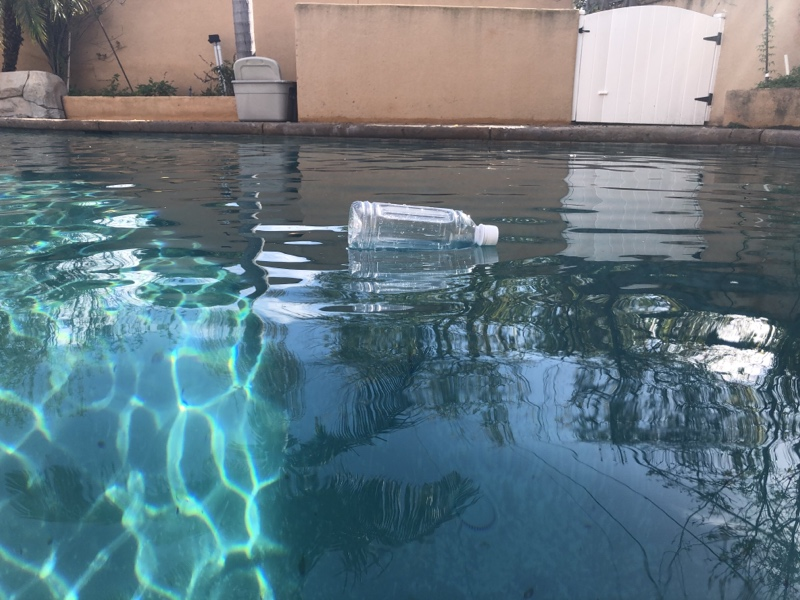Plastic Bottle: (344, 193, 504, 255)
